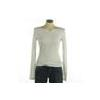maglia: (30, 26, 66, 79)
